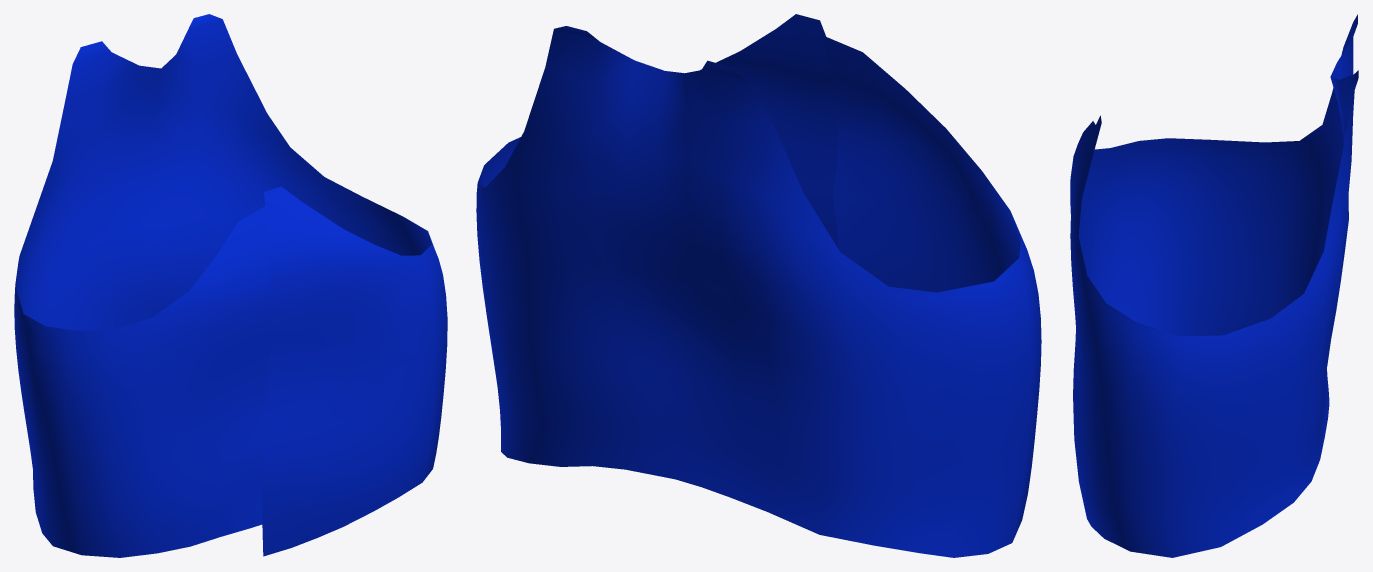
Rendered from skirt.FBX.
3 renders of one model, left to right at view 1: azimuth 30°, elevation 25°; view 2: azimuth 150°, elevation 25°; view 3: azimuth 270°, elevation 25°, orthographic. The views are drawn at different scales.
Parts seen in each view (by area): view 1: Skirt; view 2: Skirt; view 3: Skirt.
Boxes of the visible parts, box(x1,y1,x2,y2) form: Skirt: box(14, 14, 447, 557); Skirt: box(476, 14, 1041, 557); Skirt: box(1070, 14, 1358, 557).
Size of the model in its own units: 10.96 by 11.08 by 6.54.
